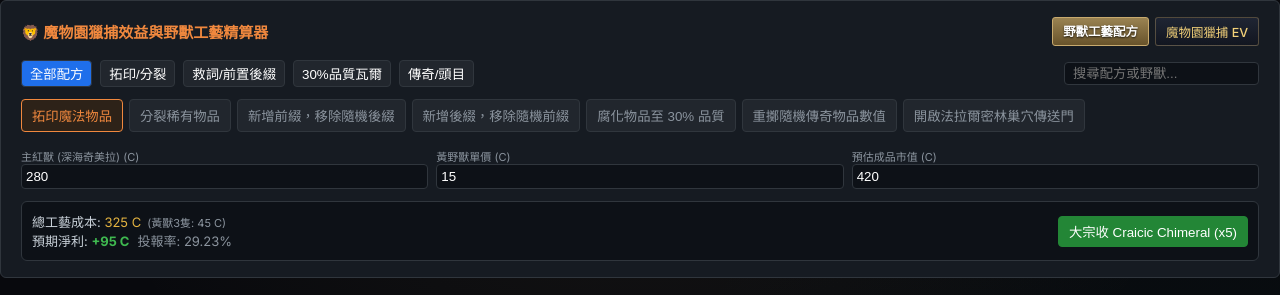
Test: BestiaryCraftCard › should switch tabs between Crafting and Mission EV
Click the button "魔物園獵捕 EV": coordinates (1207, 32) left=1155, top=17, right=1259, bottom=46
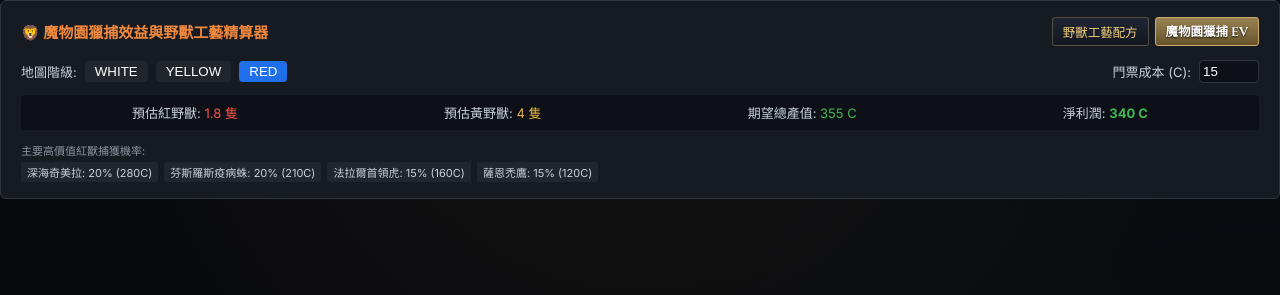
expect the text "地圖階級:" is shown: met, box left=21, top=62, right=77, bottom=81
expect the text "預估紅野獸: 1.8 隻" is shown: met, box left=132, top=103, right=238, bottom=122
Click the button "野獸工藝配方": coordinates (1100, 32) left=1052, top=17, right=1149, bottom=46
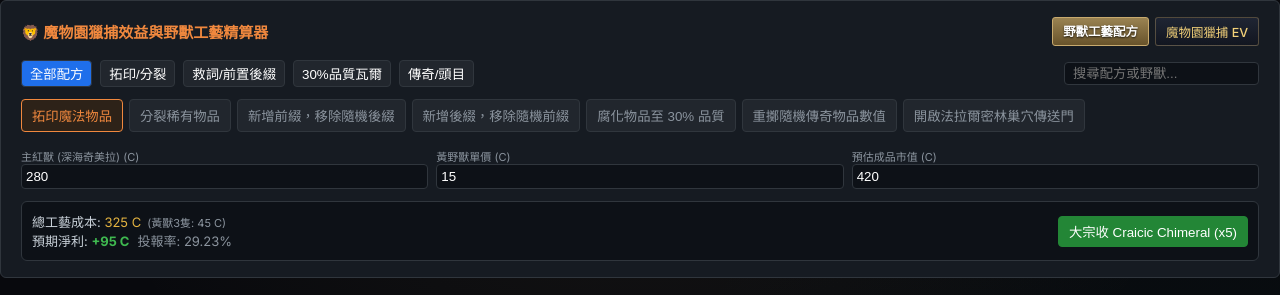
expect the button "全部配方" is shown: met, box left=21, top=60, right=92, bottom=87
